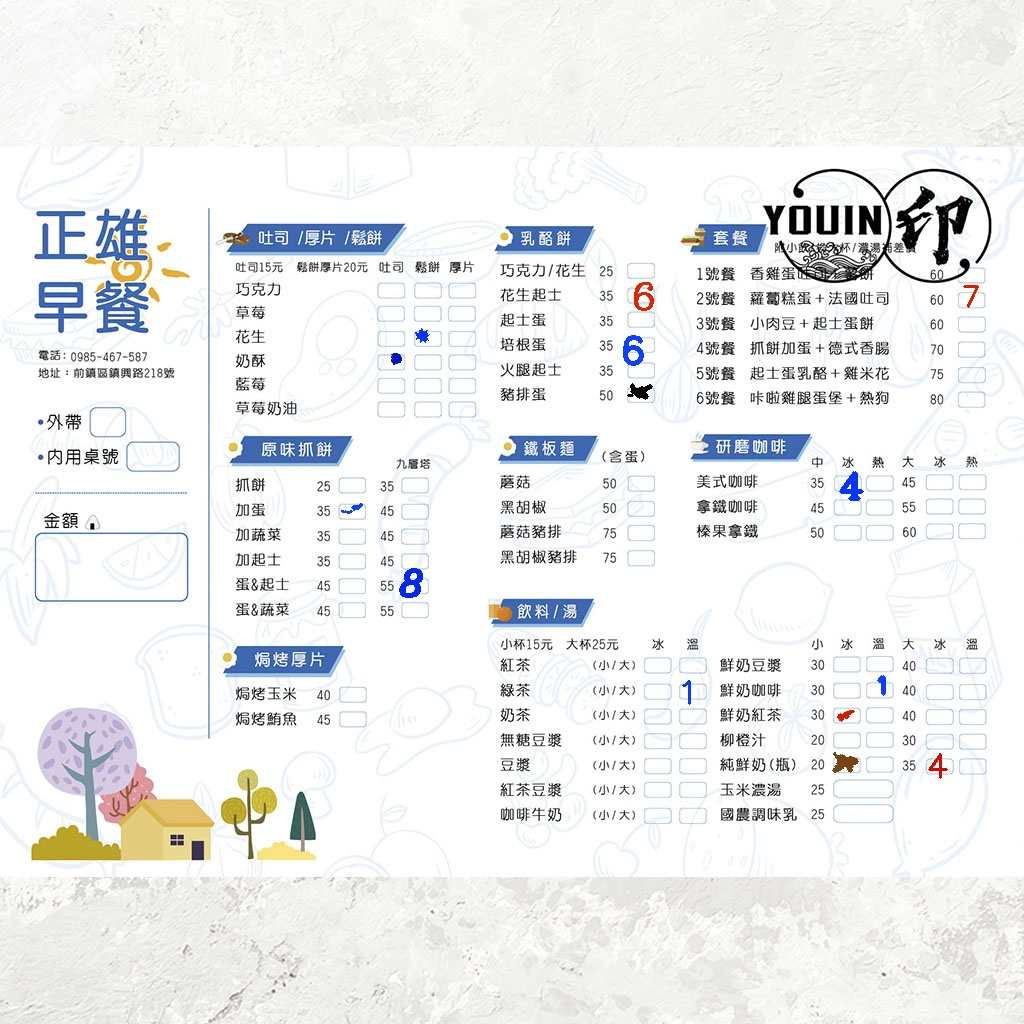marked_circle: (378, 353, 404, 367), (414, 330, 440, 344)
marked_number_1: (869, 682, 895, 696), (678, 686, 704, 700)
marked_number_4: (925, 759, 951, 773), (833, 476, 859, 490)
marked_number_6: (627, 337, 653, 351), (628, 288, 654, 302)
marked_number_7: (958, 293, 984, 307)
marked_number_8: (400, 579, 426, 593)
marked_tick: (834, 707, 860, 721), (338, 503, 364, 517)
marked_x: (832, 755, 858, 769), (626, 385, 652, 399)
